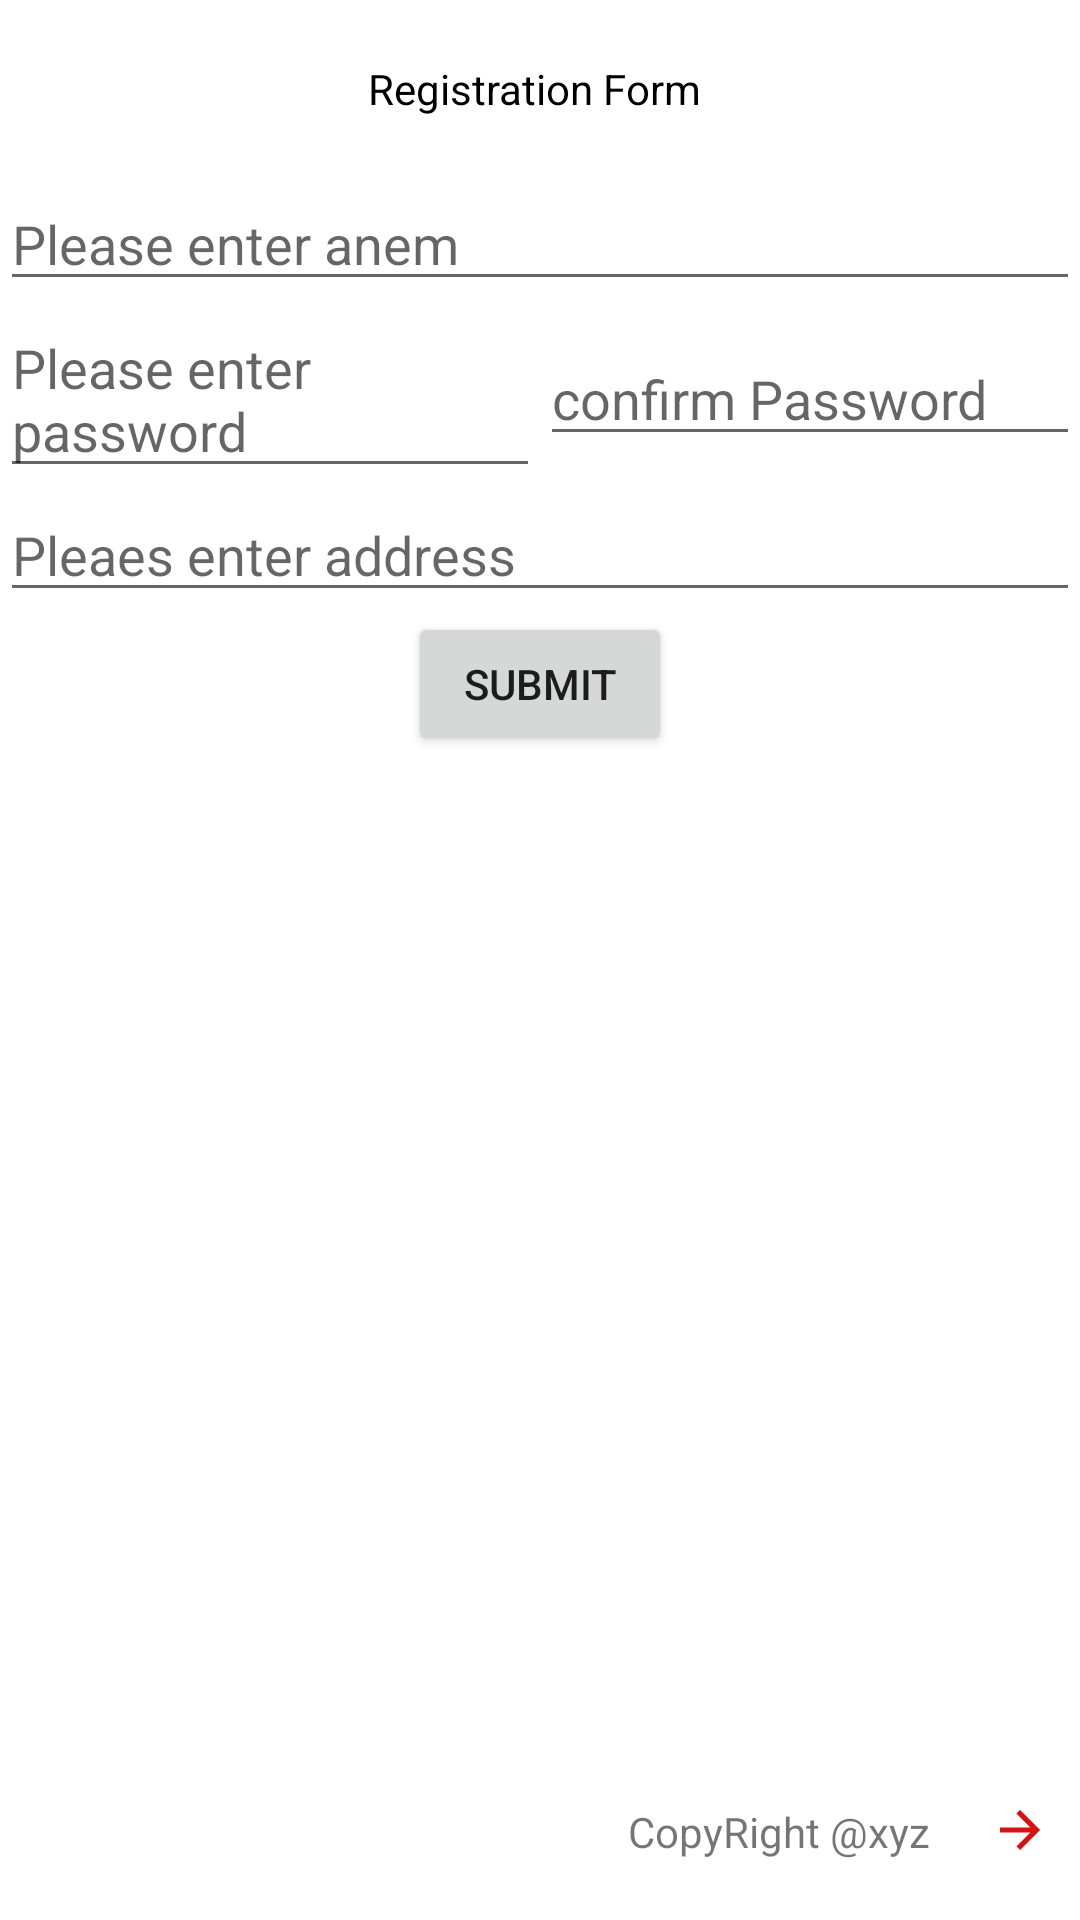

Named icons in this screenshot (1080×1920) and their centers, (x=x, y=y):
arrowimg: (x=1020, y=1830)
